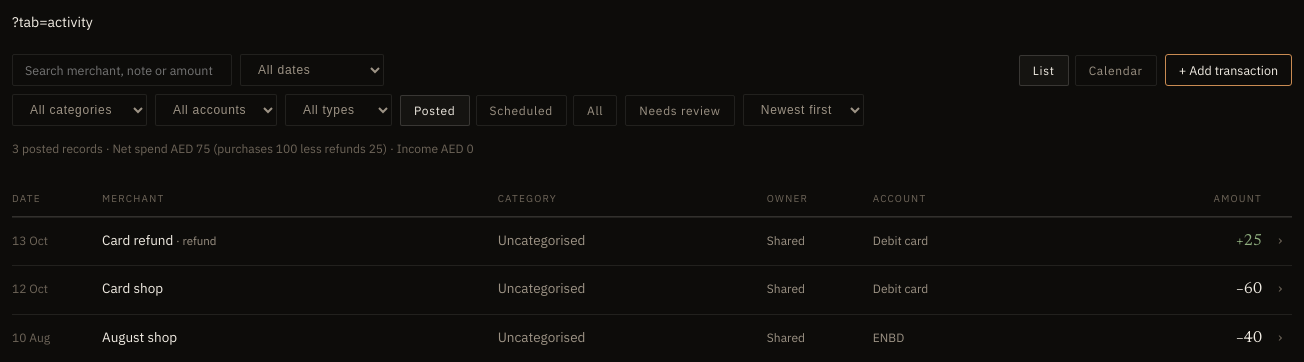
Test: Activity date select and other filters › narrows by account and type, and clears every filter at once
Select "Debit card" in the dropdown named "Account" at (216, 110), box left=155, top=94, right=277, bottom=126
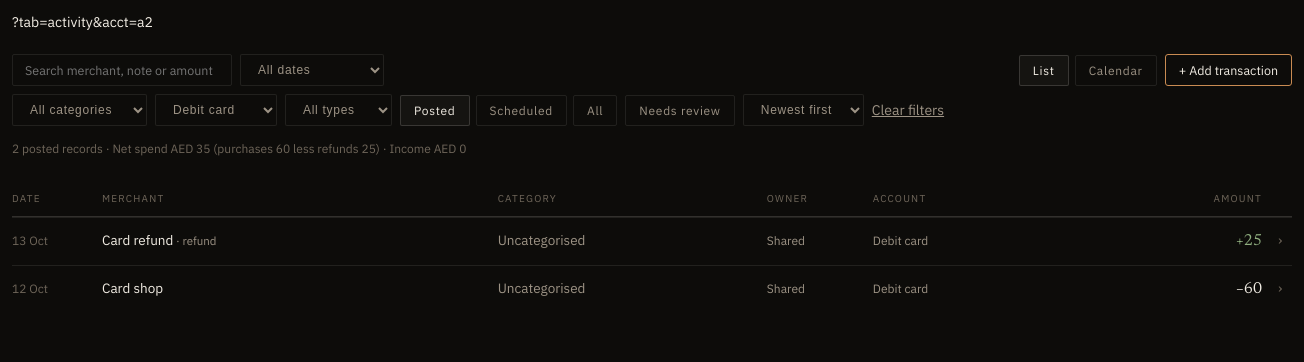
Select "Refunds" in the dropdown named "Type" at (338, 110), box left=285, top=94, right=392, bottom=126
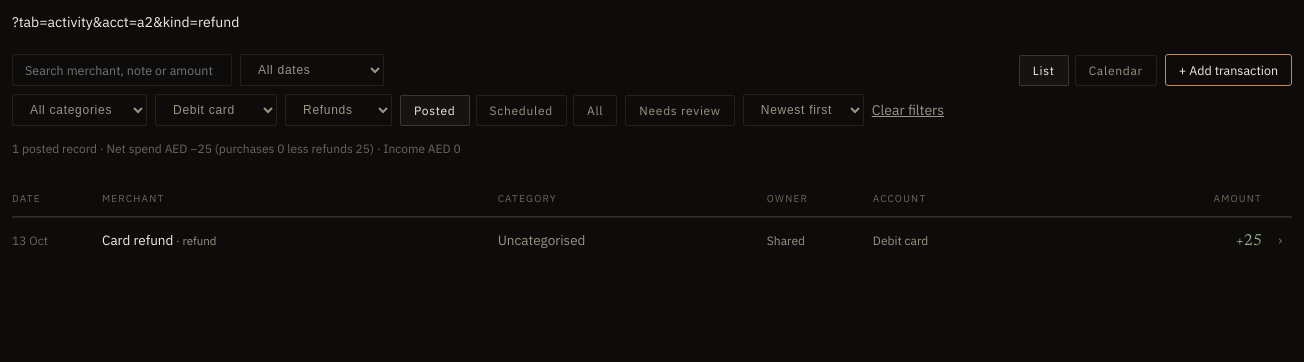
expect the text "Card refund" is shown: met, box left=102, top=231, right=173, bottom=249
expect the button "Card shop" is gone: met
Click the button "Clear filters".
click(908, 110)  # box left=872, top=100, right=944, bottom=120
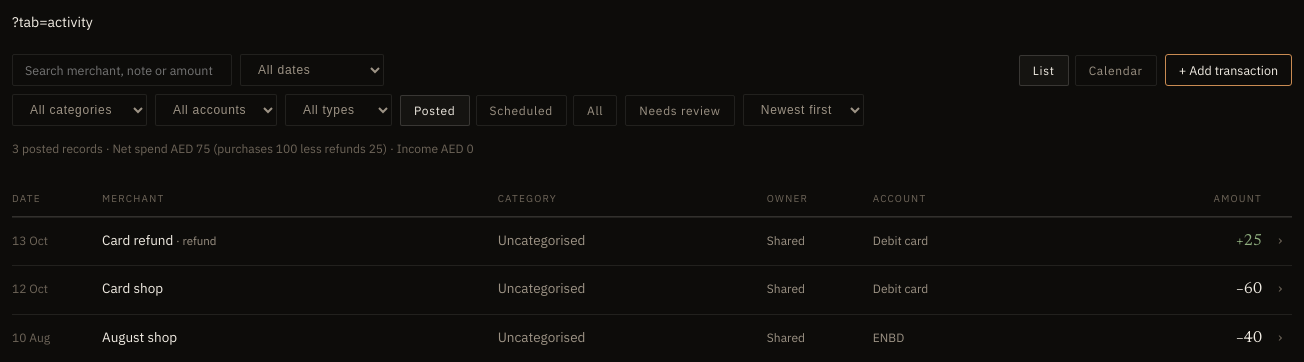
expect the text with test id "location" reads "?tab=activity": met, box left=12, top=13, right=93, bottom=31
expect the text "August shop" is shown: met, box left=102, top=328, right=177, bottom=346
